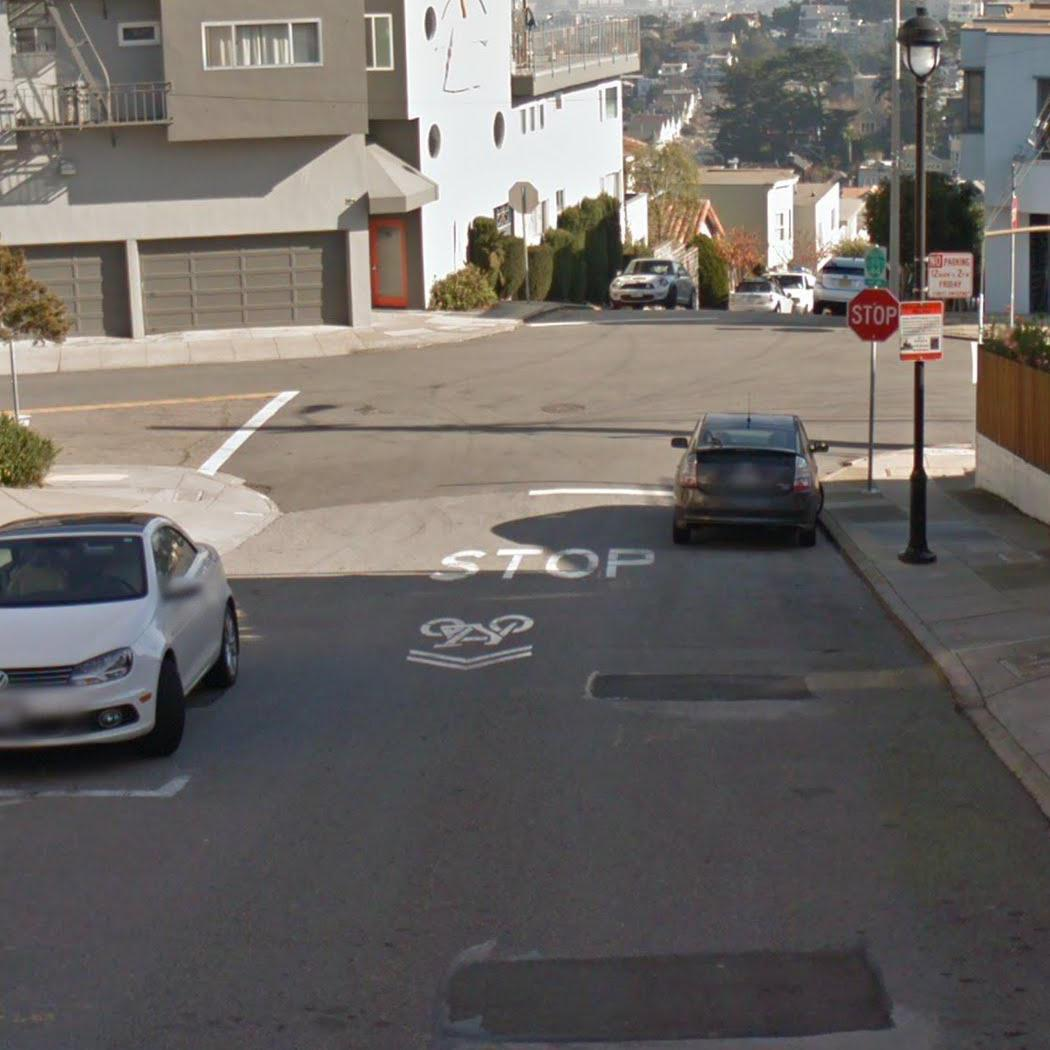No Parking: (926, 252, 974, 299)
